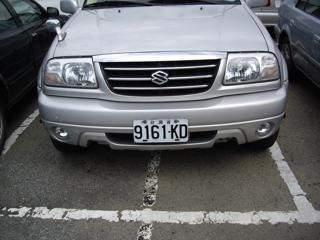plate: (131, 117, 190, 145)
